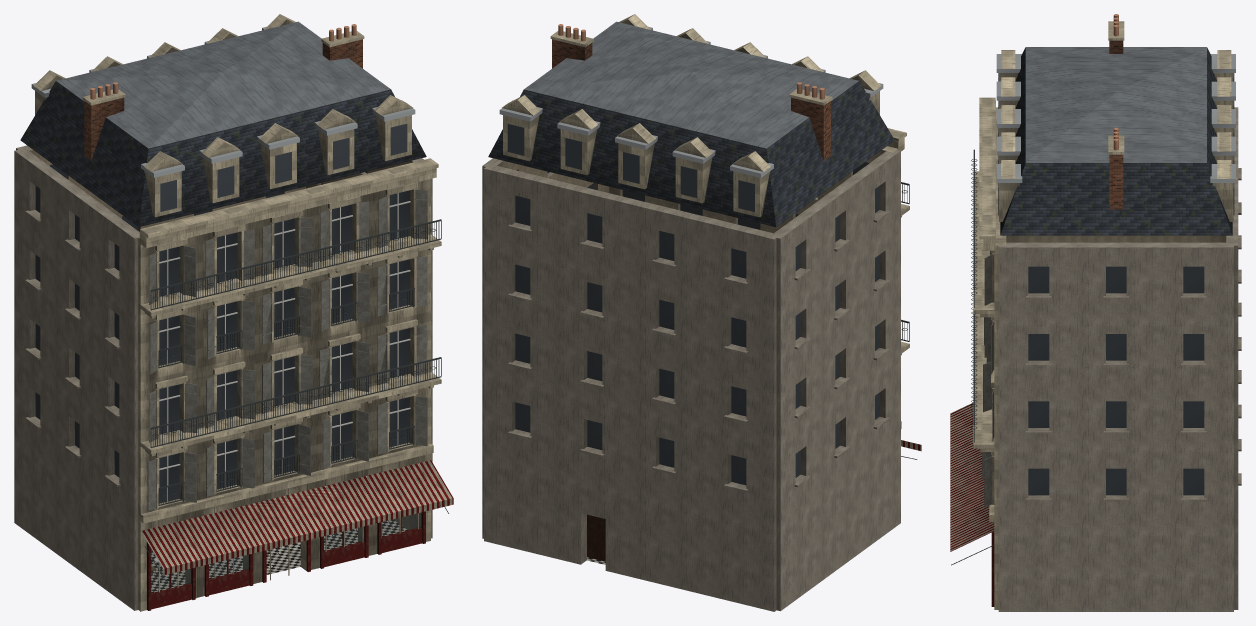
File: paris_building.glb
3 views of the same model, side by side, from view 1: azimuth 30°, elevation 25°; view 2: azimuth 150°, elevation 25°; view 3: azimuth 270°, elevation 25° (orthographic). The views are drawn at different scales.
Visible parts, largest first — view 1: ParisBuilding; view 2: ParisBuilding; view 3: ParisBuilding.
Boxes of the visible parts, bbox=[...] form: ParisBuilding: bbox=[14, 14, 453, 611]; ParisBuilding: bbox=[482, 14, 921, 611]; ParisBuilding: bbox=[950, 14, 1241, 611].
Bounding box in the file's own units: 14.8 × 22.01 × 12.55.
23 materials, 13 textured.
